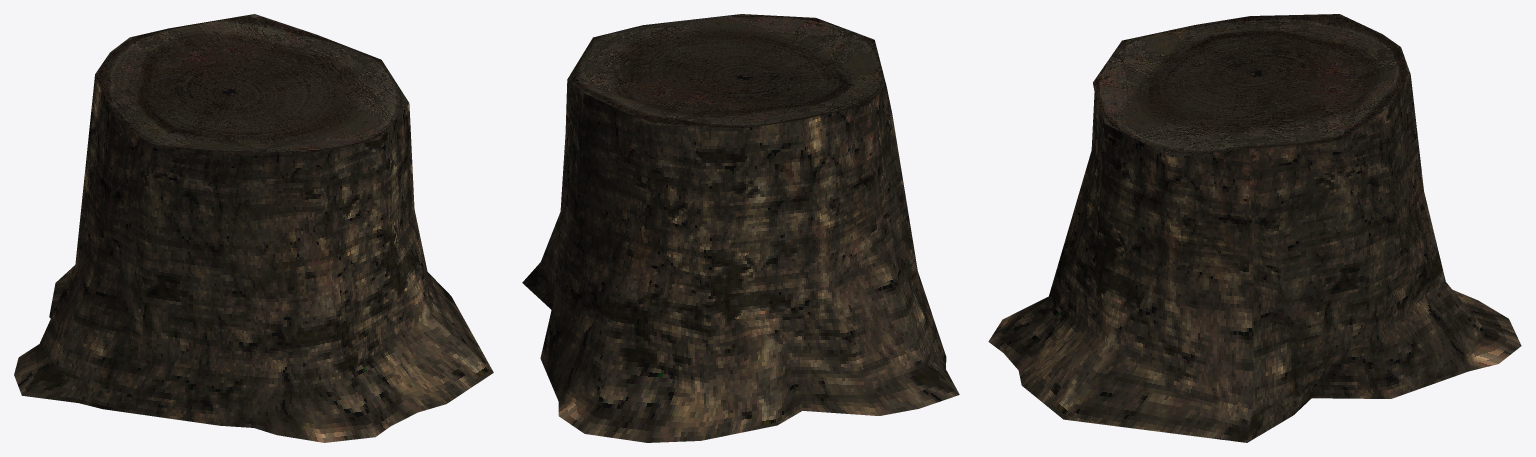
The model's file is tree_stump_1.glb.
3 views of the same model, side by side, from view 1: azimuth 30°, elevation 25°; view 2: azimuth 150°, elevation 25°; view 3: azimuth 270°, elevation 25° (orthographic). The views are drawn at different scales.
Visible parts, largest first — view 1: tree_stump_1; view 2: tree_stump_1; view 3: tree_stump_1.
Part boxes in pixels (left/top/right/bottom): tree_stump_1: left=14, top=14, right=493, bottom=442; tree_stump_1: left=522, top=14, right=959, bottom=442; tree_stump_1: left=988, top=14, right=1521, bottom=442.
Bounding box in the file's own units: 0.8786 × 0.524 × 0.929.
2 materials, 2 textured.
